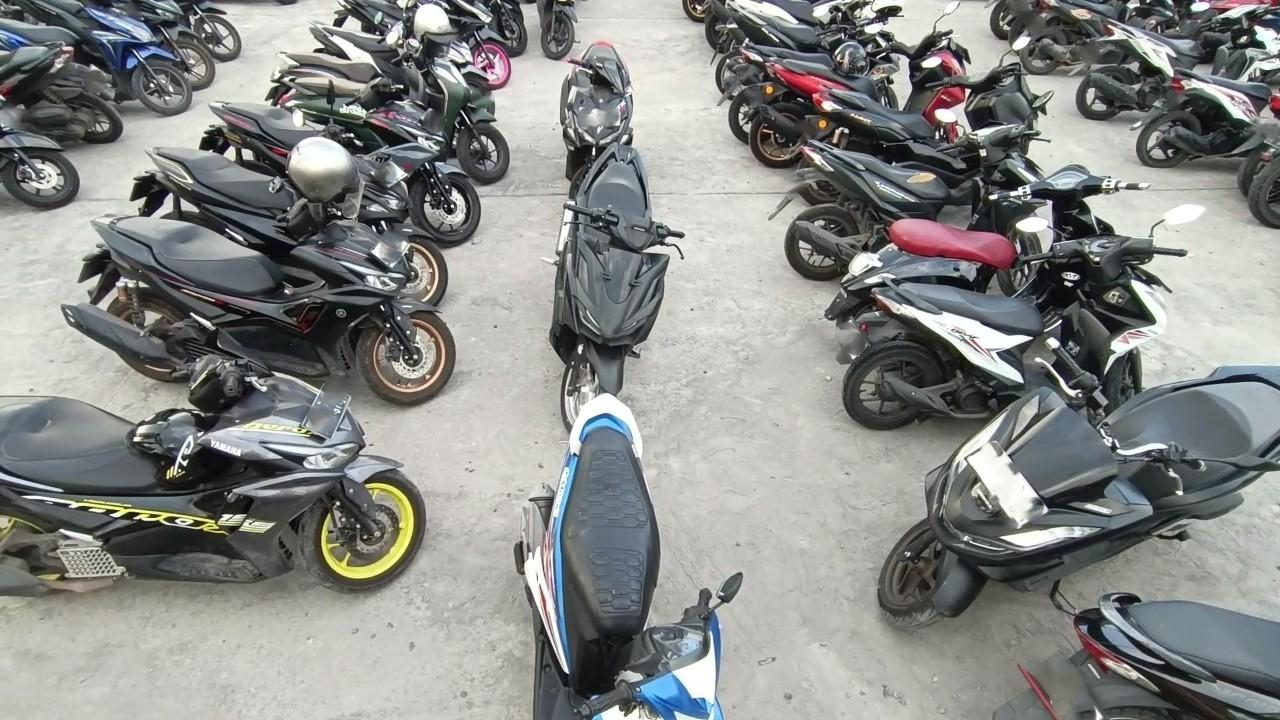motorcycle: (0, 311, 423, 606), (877, 361, 1277, 640), (72, 139, 454, 411), (838, 187, 1194, 435), (513, 390, 743, 720), (128, 79, 444, 311), (775, 90, 1076, 295), (825, 163, 1149, 329), (202, 75, 482, 248), (543, 117, 684, 436), (799, 37, 1047, 208), (273, 5, 507, 184), (986, 588, 1280, 720), (753, 2, 975, 170), (1084, 0, 1280, 125), (726, 8, 901, 143), (2, 2, 195, 116), (303, 7, 496, 116), (1134, 34, 1280, 170), (272, 2, 426, 113), (333, 0, 510, 89), (716, 1, 874, 97), (0, 38, 123, 151), (557, 36, 638, 186), (1021, 0, 1181, 75), (106, 1, 220, 91), (2, 100, 81, 208), (704, 0, 871, 51), (1241, 90, 1280, 234), (179, 0, 250, 62), (480, 0, 528, 57), (538, 0, 581, 61)
